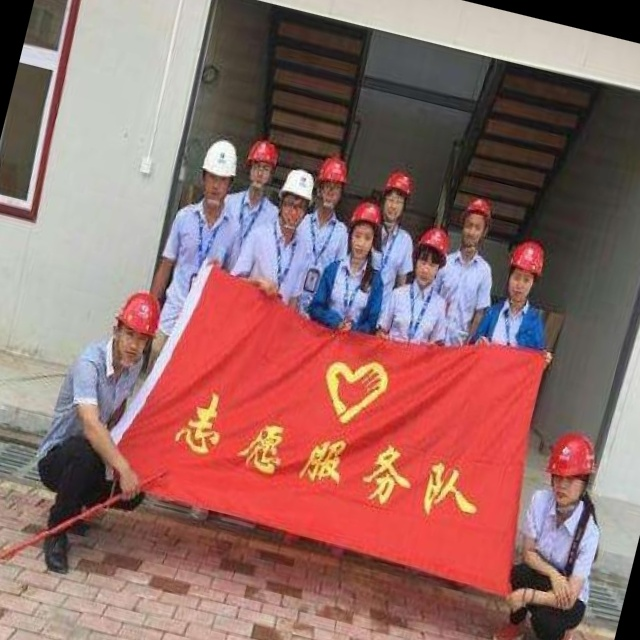Con_Casco: (101, 288, 167, 373), (540, 426, 602, 512)
